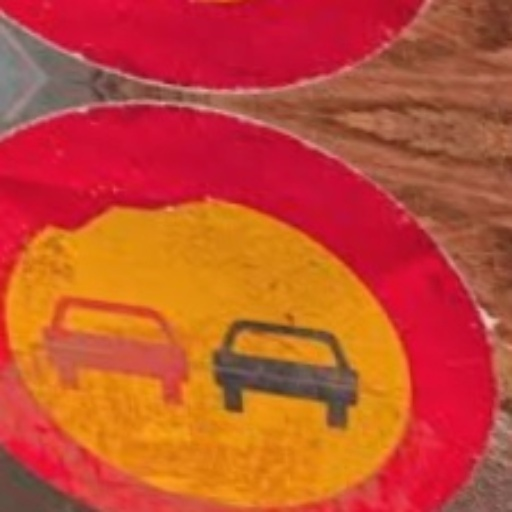No overtake: (9, 91, 439, 499)
